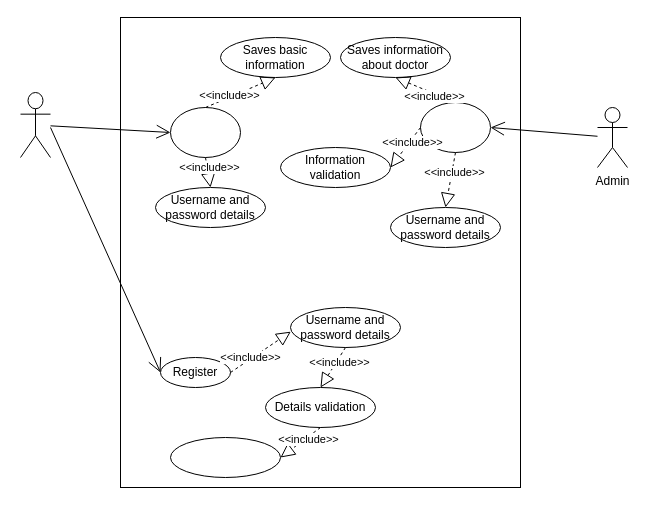
This 647x505 diagram has some shape labels left out. Here are the shapes that lost their labels. From the top down, the centre of each, then its label:
At pixel 35 125: "Patient".
At pixel 205 132: "Patient registration".
At pixel 455 127: "Docrtor registration".
At pixel 225 457: "System accesed".
